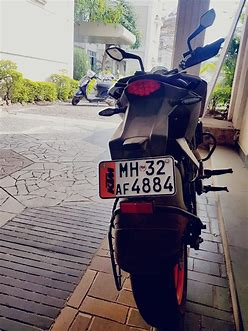license-plate: (94, 157, 181, 198)
